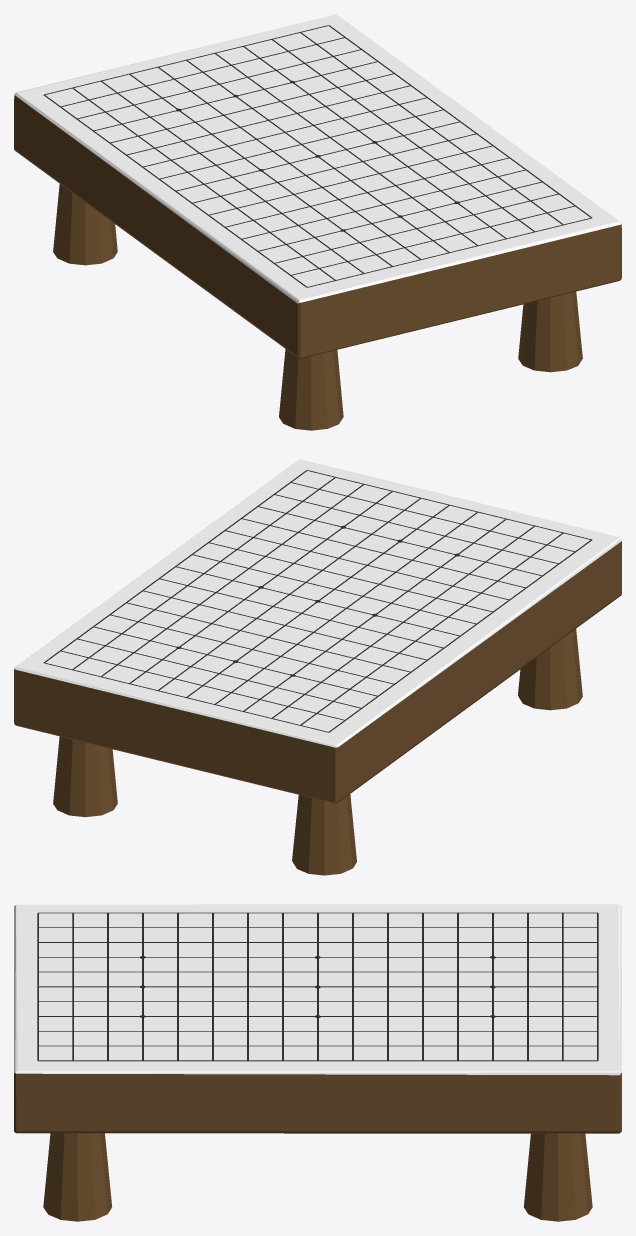
File: board_default_lod1.glb
The picture shows the model from 3 angles, top to bottom: view 1: azimuth 30°, elevation 25°; view 2: azimuth 150°, elevation 25°; view 3: azimuth 270°, elevation 25°; orthographic projection. The views are drawn at different scales.
Parts seen in each view (by area): view 1: board_default_lod1; view 2: board_default_lod1; view 3: board_default_lod1.
Part boxes in pixels (x1,y1,x2,y2): board_default_lod1: (14, 14, 621, 430); board_default_lod1: (14, 459, 621, 875); board_default_lod1: (14, 904, 621, 1221).
Bounding box in the file's own units: 0.3417 × 0.1508 × 0.5214.
